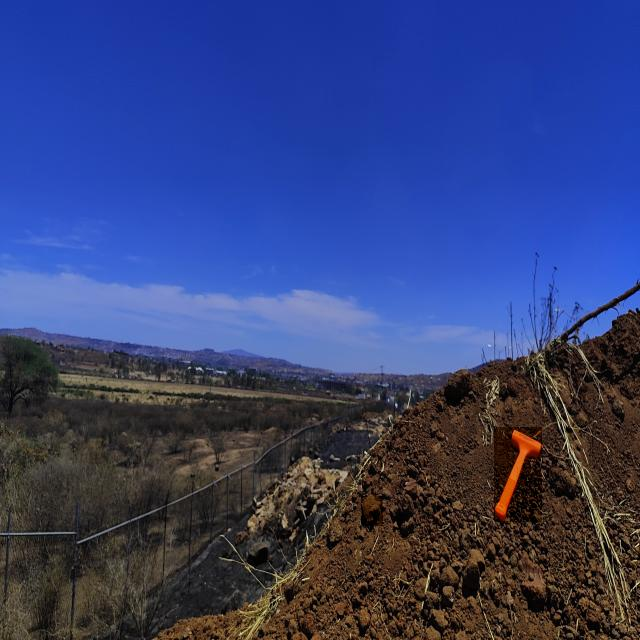Orange_hammer: (494, 427, 542, 522)
rock: (362, 496, 384, 526)
